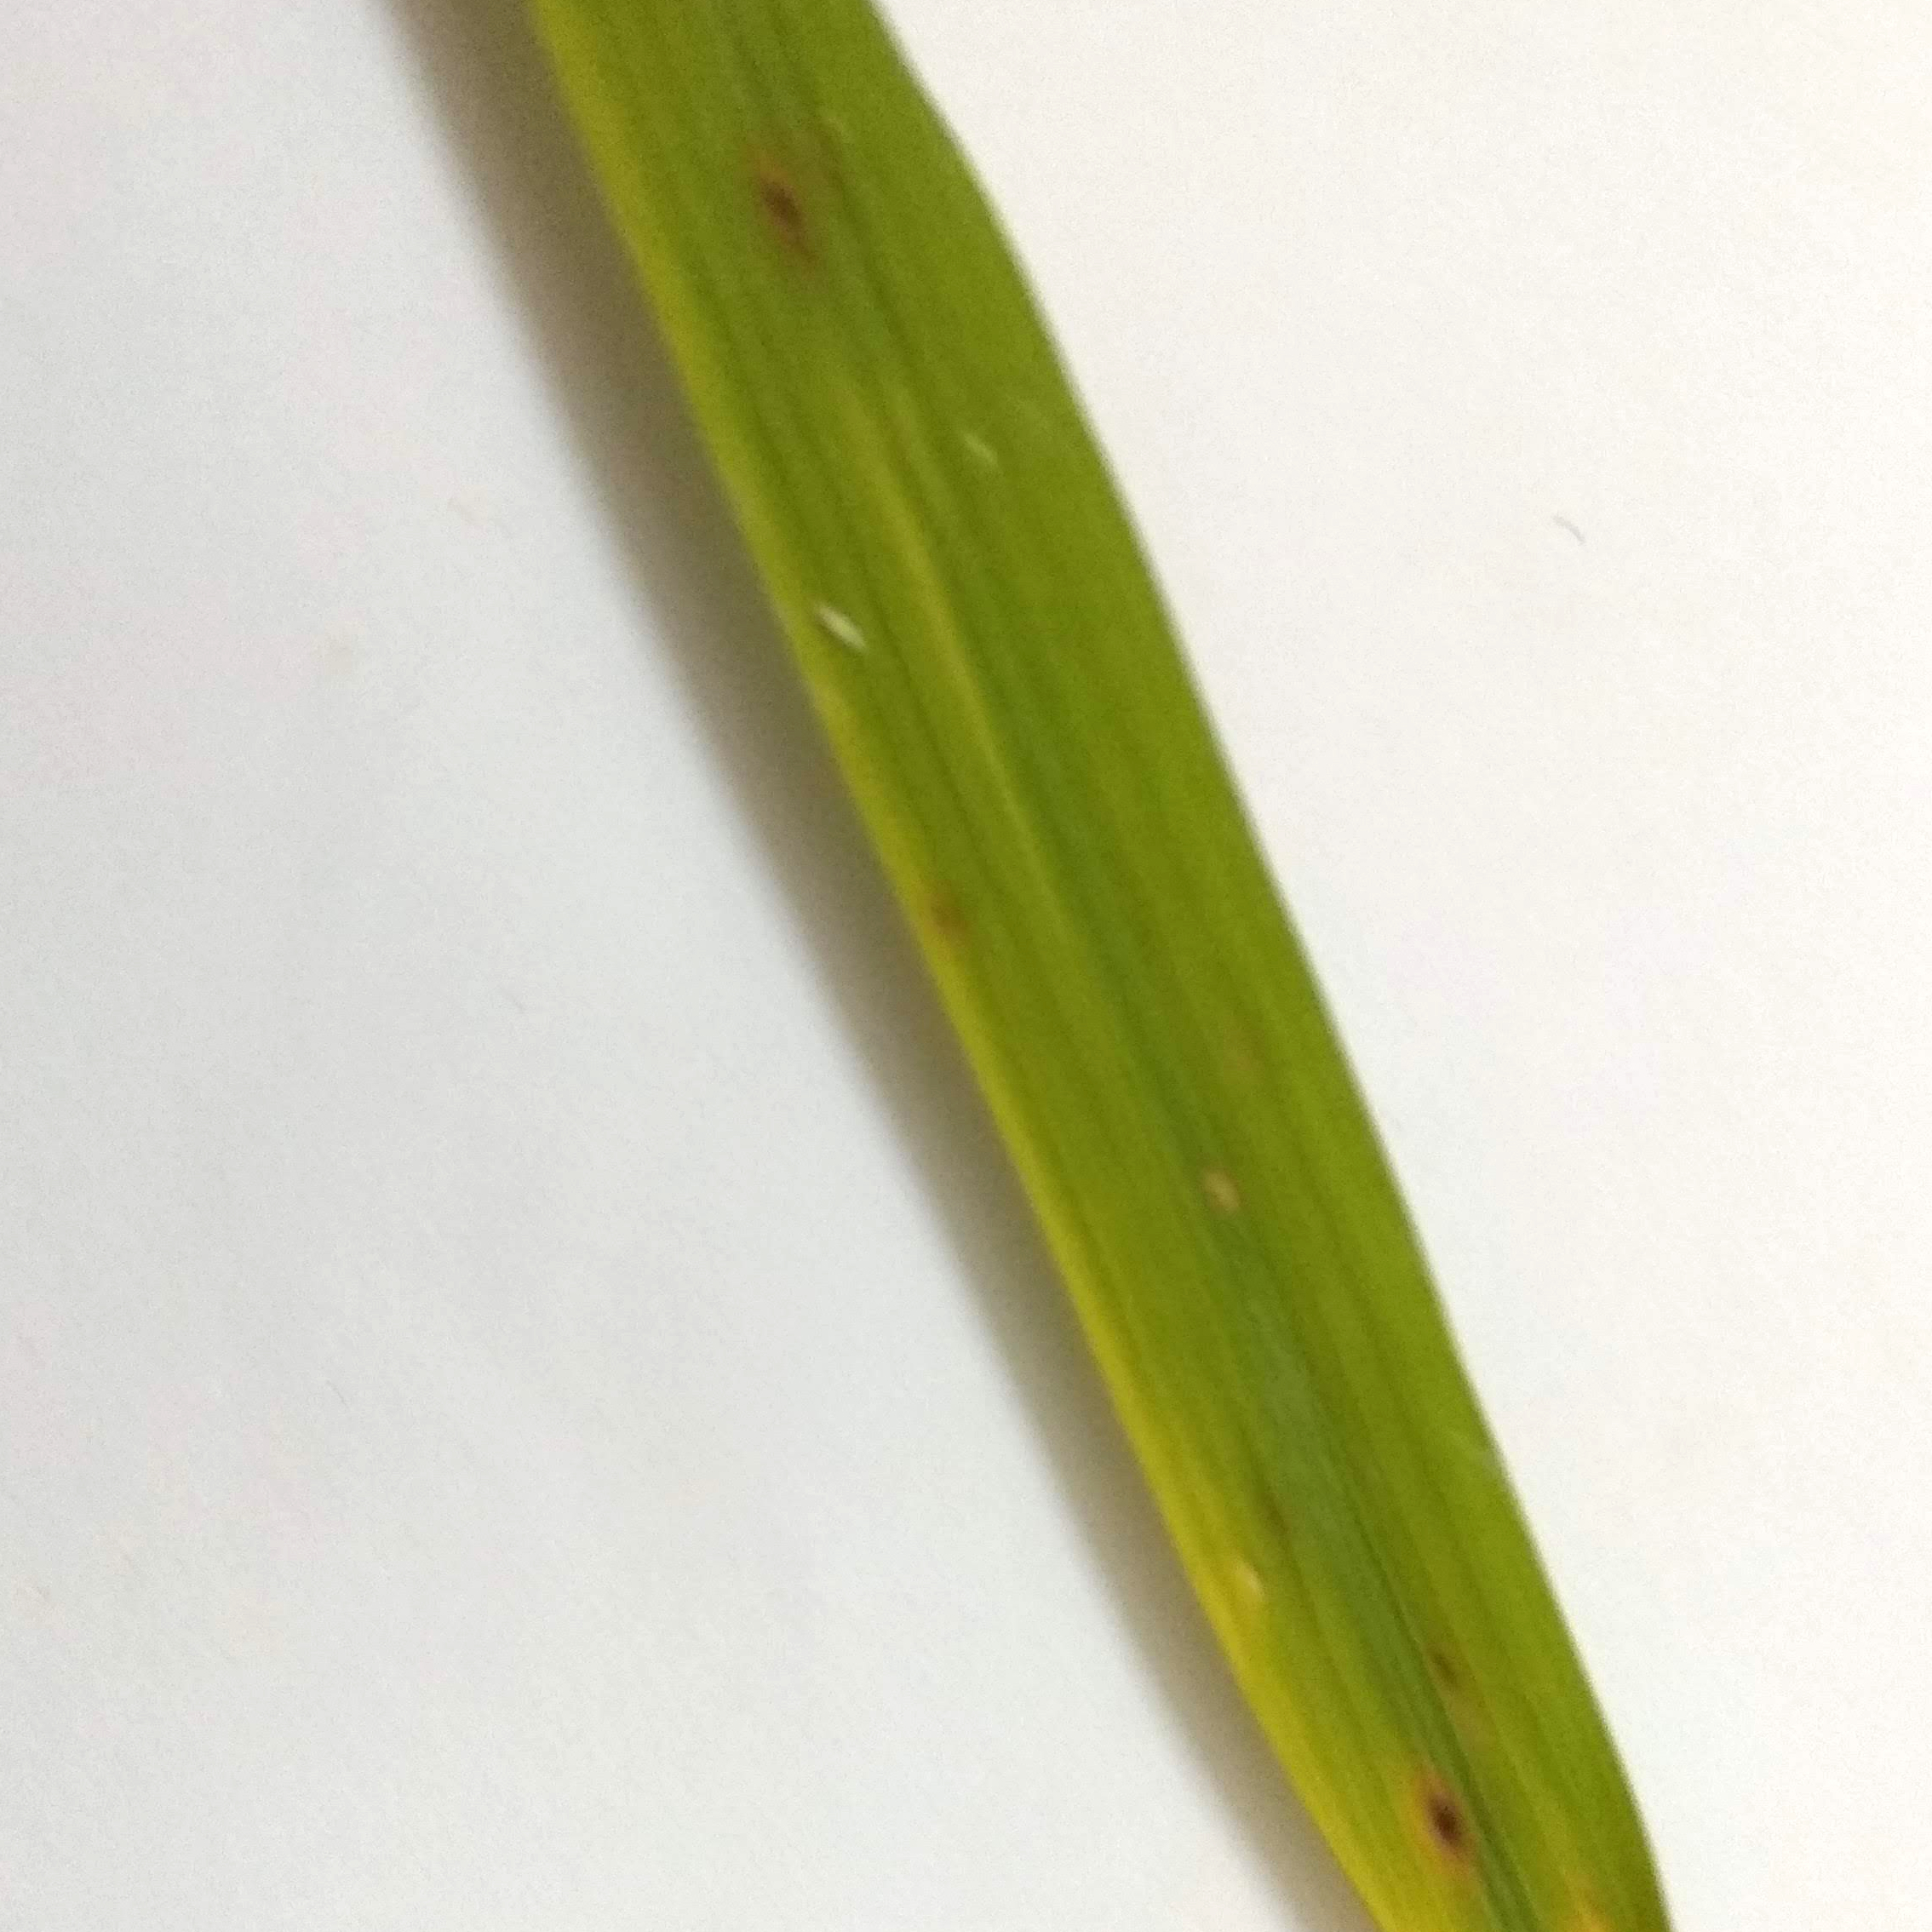brown spot: (729, 136, 851, 292), (1398, 1775, 1499, 1886), (1162, 1152, 1274, 1247), (904, 881, 984, 954), (1419, 1637, 1477, 1706)
